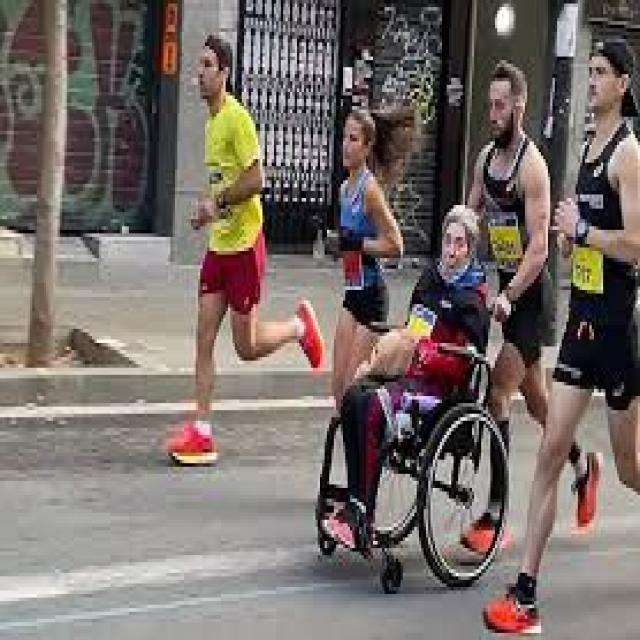wheelchairs: (311, 265, 520, 591)
